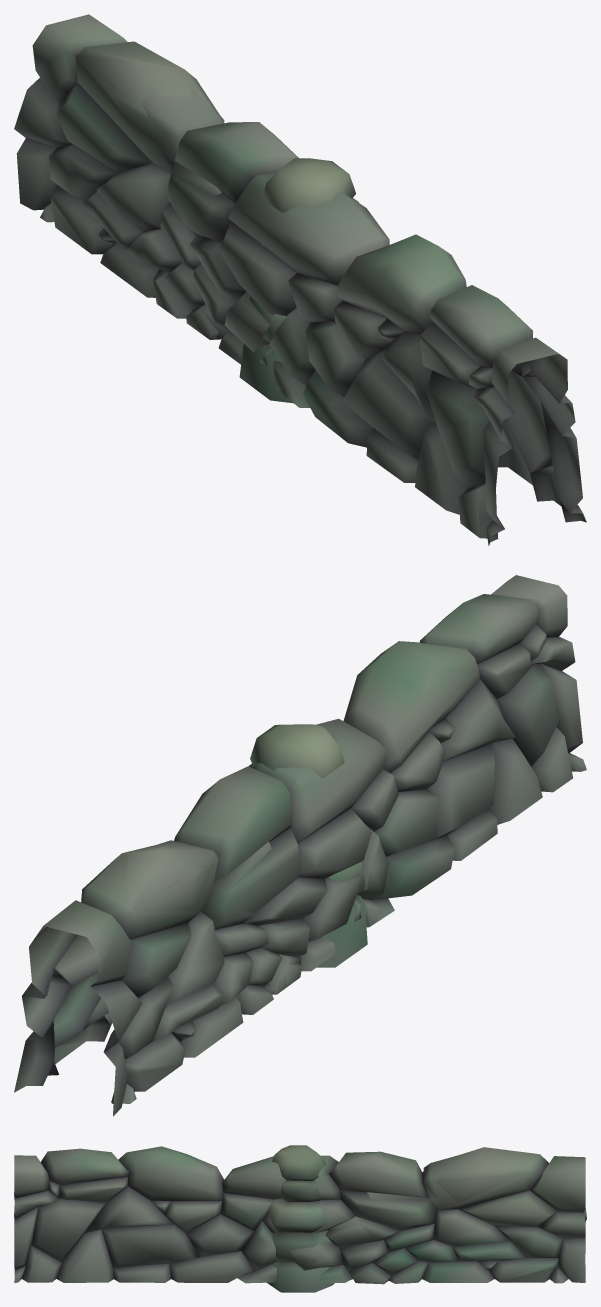
Rendered from Scenery_StoneWall.fbx.
The picture shows the model from 3 angles, top to bottom: view 1: azimuth 30°, elevation 25°; view 2: azimuth 150°, elevation 25°; view 3: azimuth 270°, elevation 25°; orthographic projection. The views are drawn at different scales.
Visible parts, largest first — view 1: StoneWall_Segment, StoneWall_Cap_A, StoneWall_Post; view 2: StoneWall_Segment, StoneWall_Cap_A, StoneWall_Post; view 3: StoneWall_Segment, StoneWall_Cap_A, StoneWall_Post.
Boxes of the visible parts, x1,y1,x2,y2 form: StoneWall_Segment: [57, 42, 586, 545]; StoneWall_Cap_A: [14, 14, 228, 339]; StoneWall_Post: [239, 158, 358, 403]; StoneWall_Segment: [14, 575, 586, 1111]; StoneWall_Cap_A: [17, 840, 301, 1116]; StoneWall_Post: [249, 724, 367, 967]; StoneWall_Segment: [14, 1146, 586, 1283]; StoneWall_Cap_A: [330, 1154, 585, 1284]; StoneWall_Post: [267, 1145, 334, 1292].
Bounding box in the file's own units: 142 × 248 × 1003.
